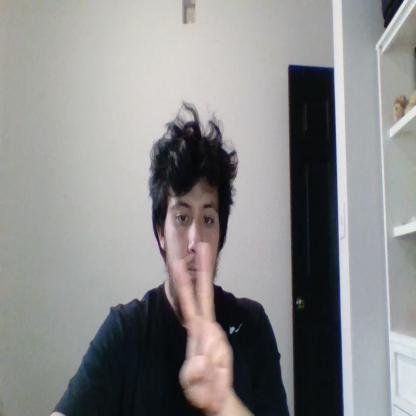V: (174, 243, 233, 411)
